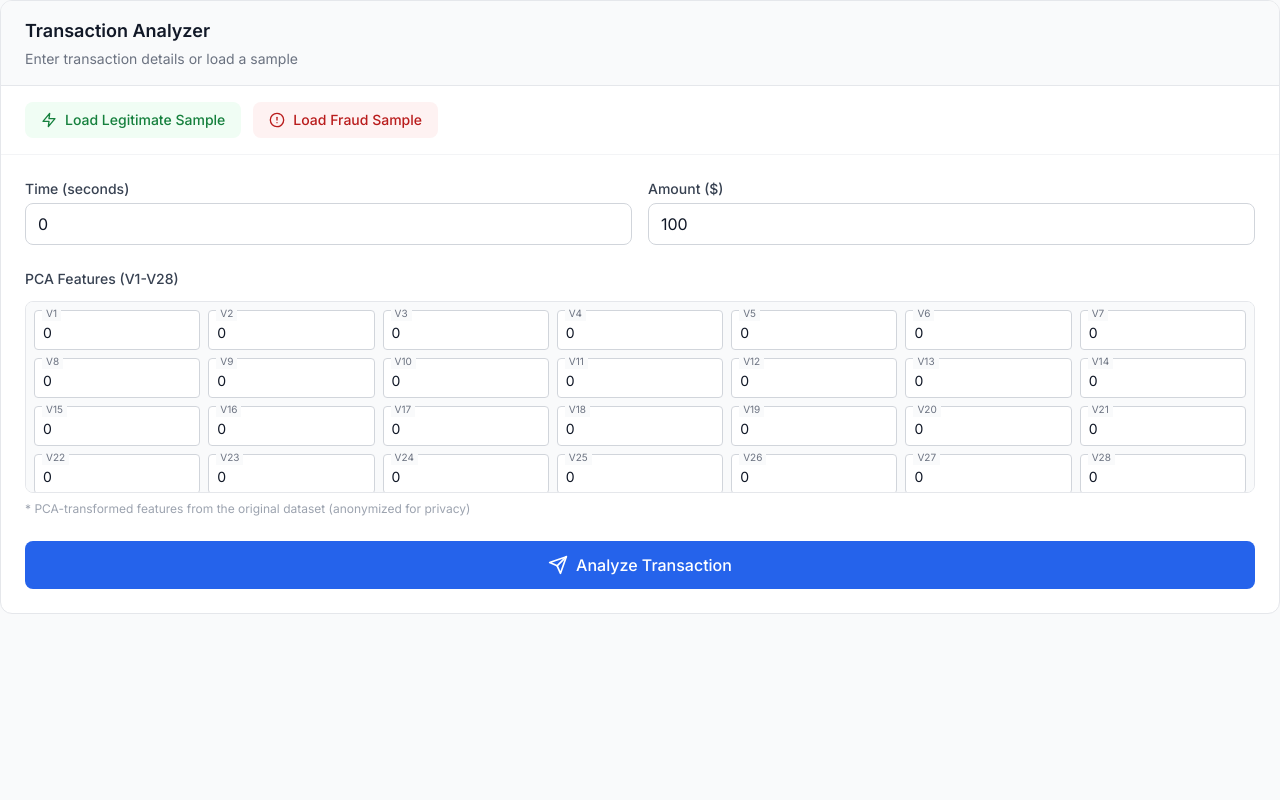
Scenario: TransactionForm Component › Form Submission › disables submit button when loading
The width and height of the screenshot is (1280, 800).
Click the button "Analyze Transaction". click: (640, 565)
box: [25,541,1255,589]
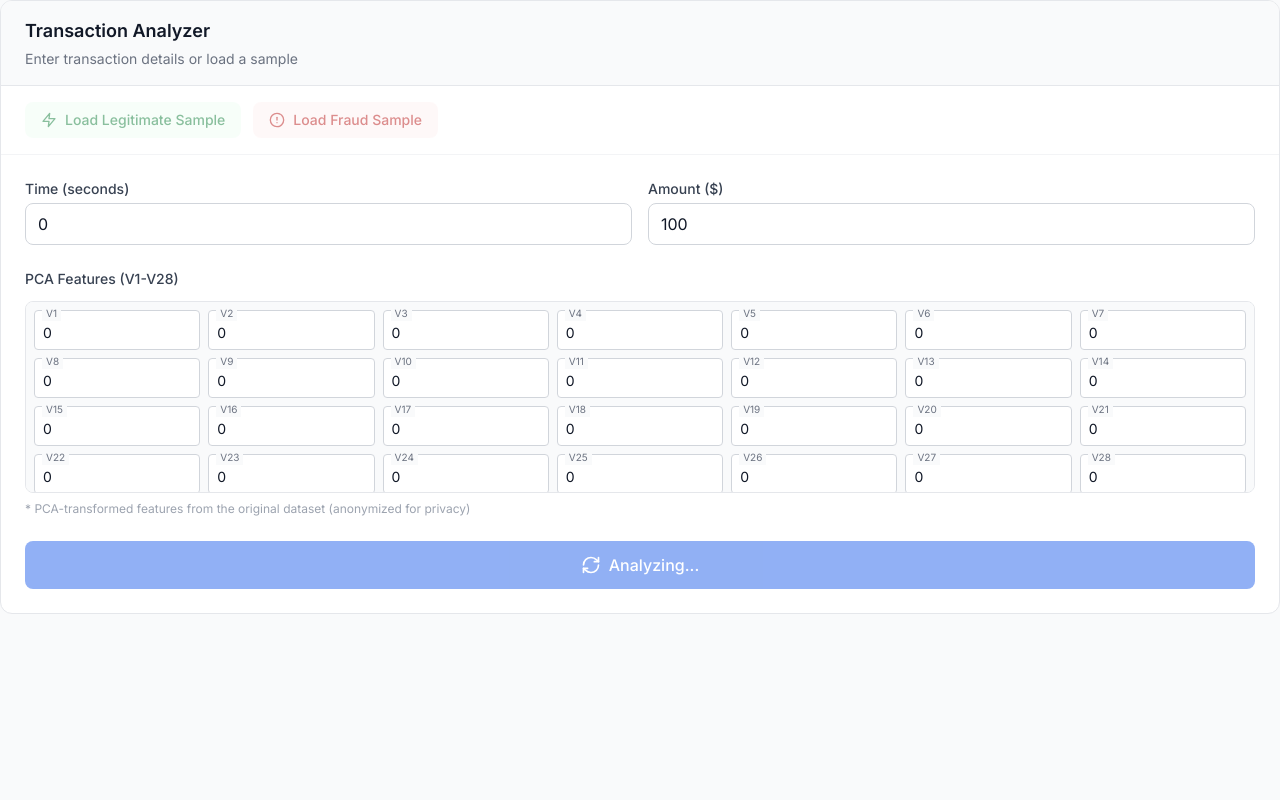
Now the button named "analyze" is disabled, box [25,541,1255,589]
